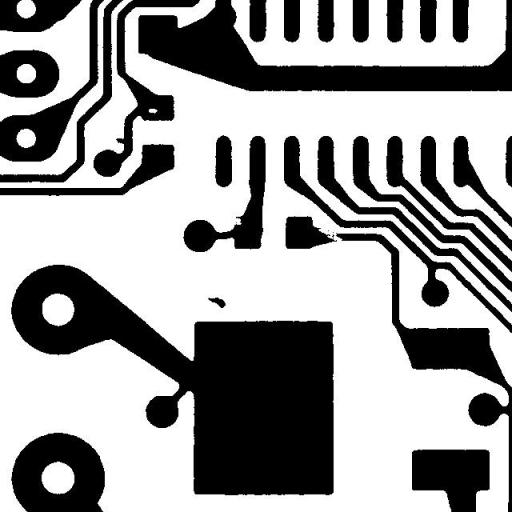copper: (200, 290, 233, 315)
mousebite: (222, 210, 248, 232)
open: (310, 221, 350, 248)
pin-hole: (141, 101, 165, 121)
spur: (108, 130, 134, 152)
